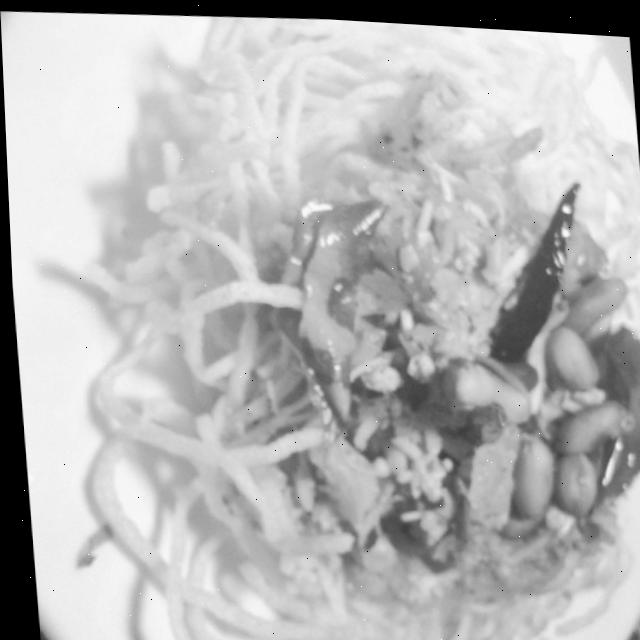面条主食: (80, 6, 640, 640)
